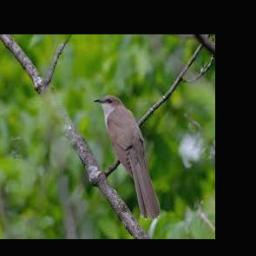Cuckoo: (94, 95, 161, 219)
